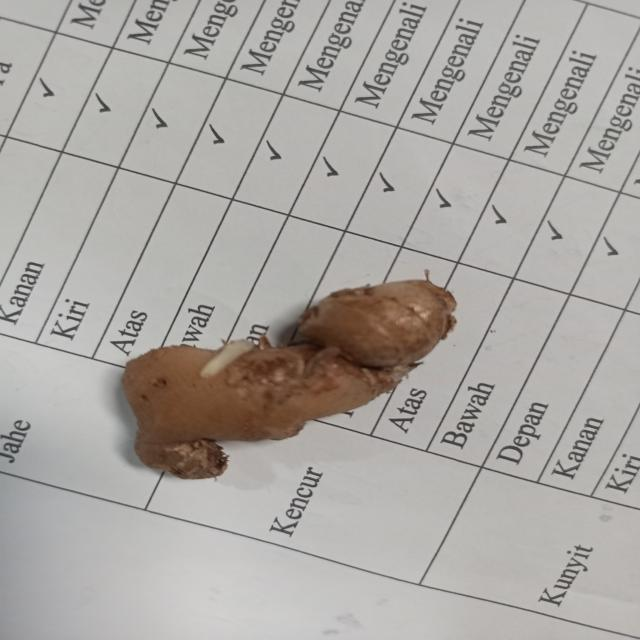ginger: (130, 280, 463, 462)
